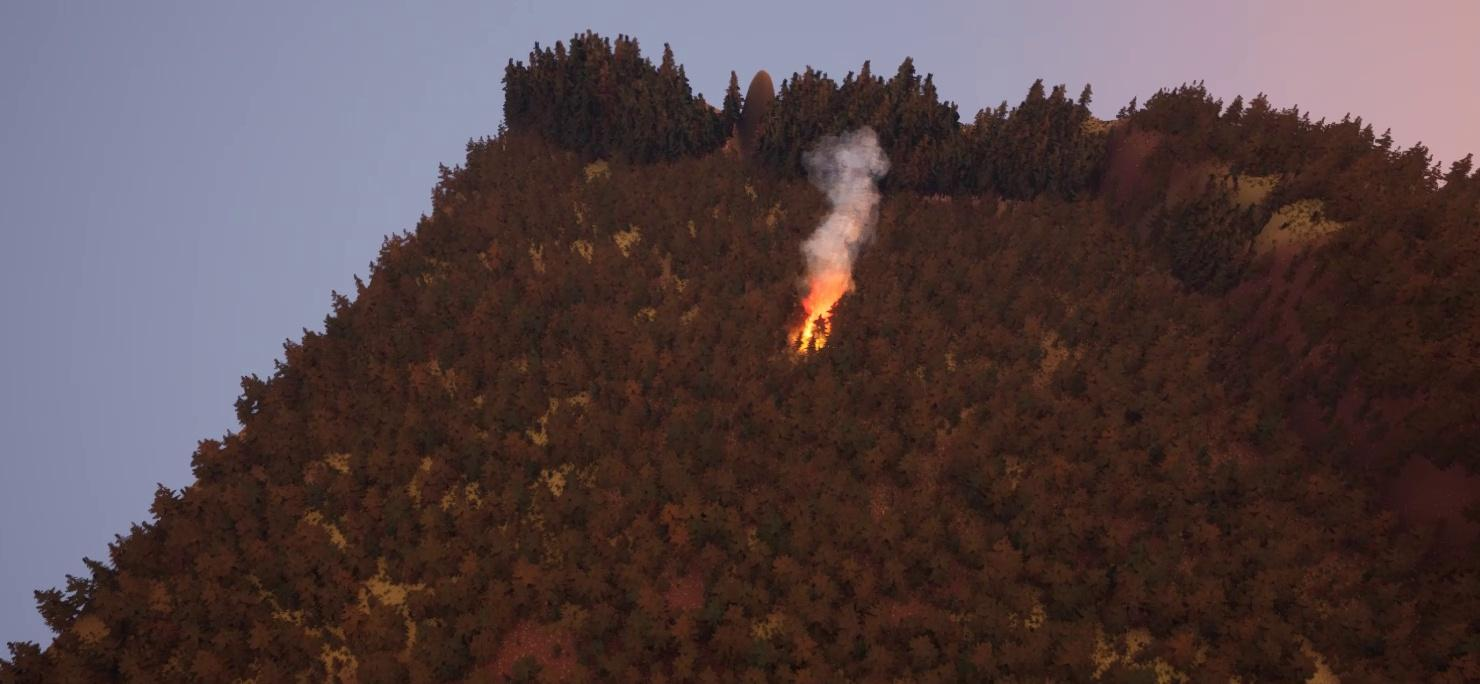fire: (793, 275, 849, 350)
smoke: (788, 127, 895, 283)
